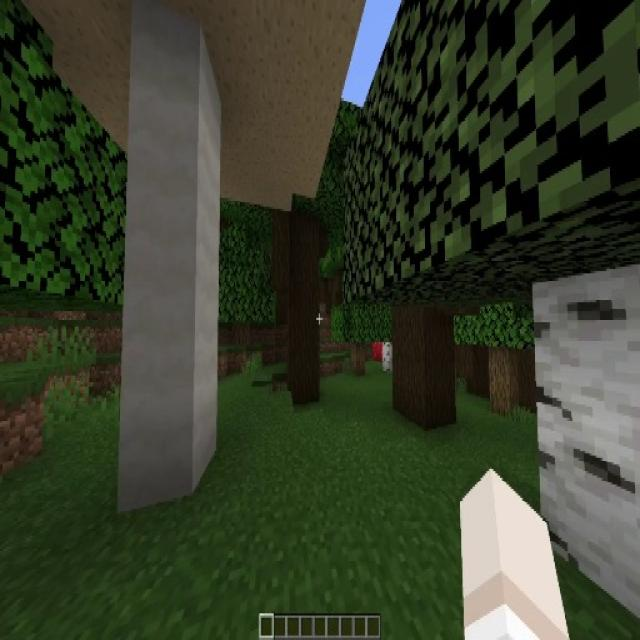birch_log: (530, 282, 640, 620), (381, 345, 391, 370)
dark_oak: (321, 237, 348, 311)
dark_oak_log: (392, 307, 454, 426), (284, 212, 320, 400), (458, 342, 490, 400), (323, 272, 342, 314)
oak: (448, 255, 542, 423), (200, 218, 278, 352), (332, 268, 392, 372)
oak_log: (490, 349, 516, 421), (353, 344, 367, 373)
